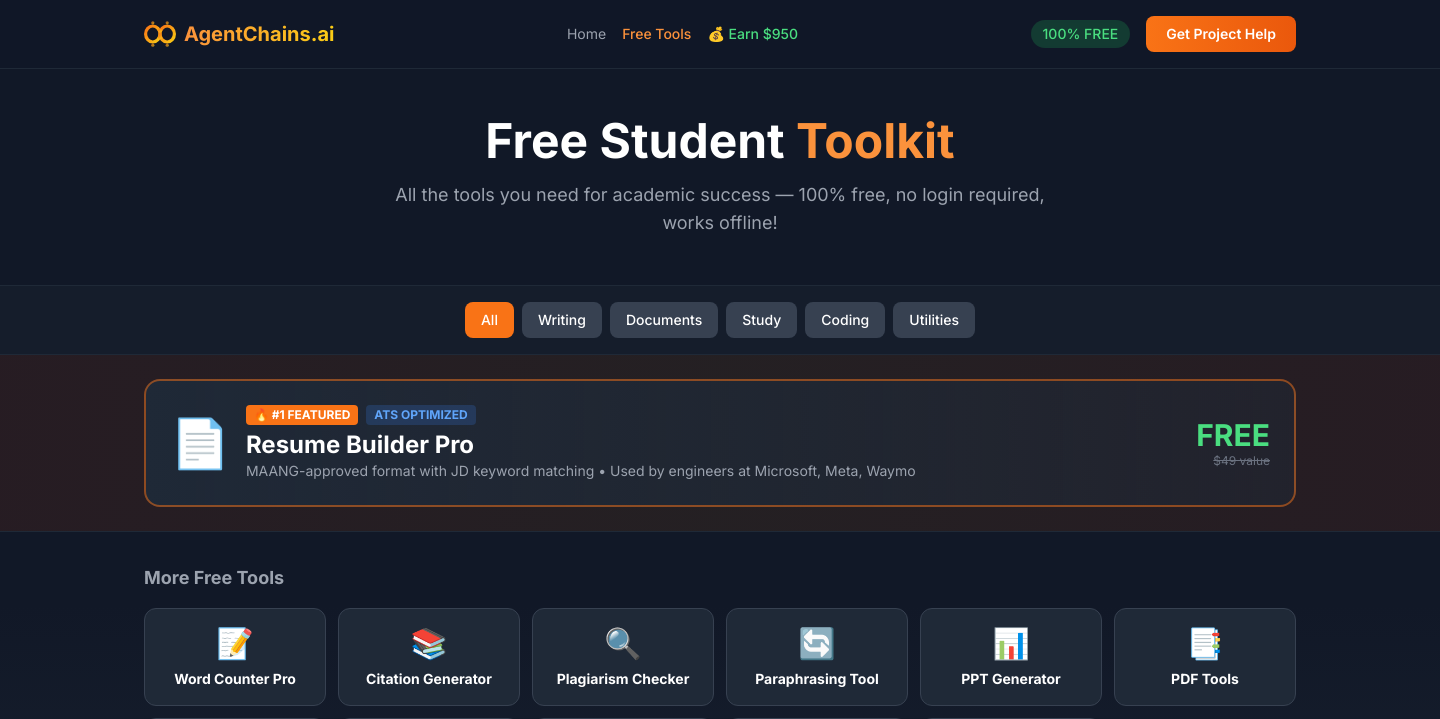
Scenario: Word Counter Pro › shows 0 for empty text
Click the text "Word Counter Pro": [235, 678] box [174, 670, 296, 687]
(page scrolled)
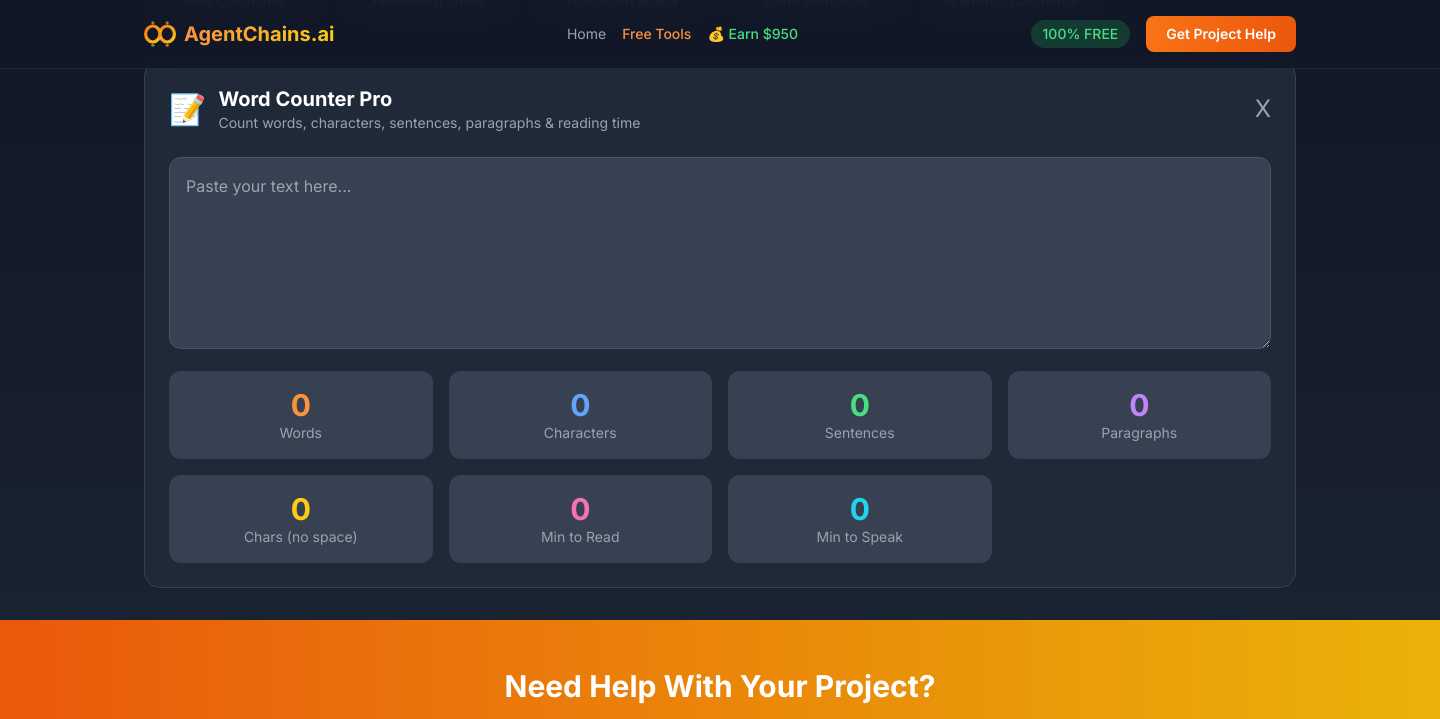
Now the 1st text "0" is shown, box [291, 387, 311, 423]
